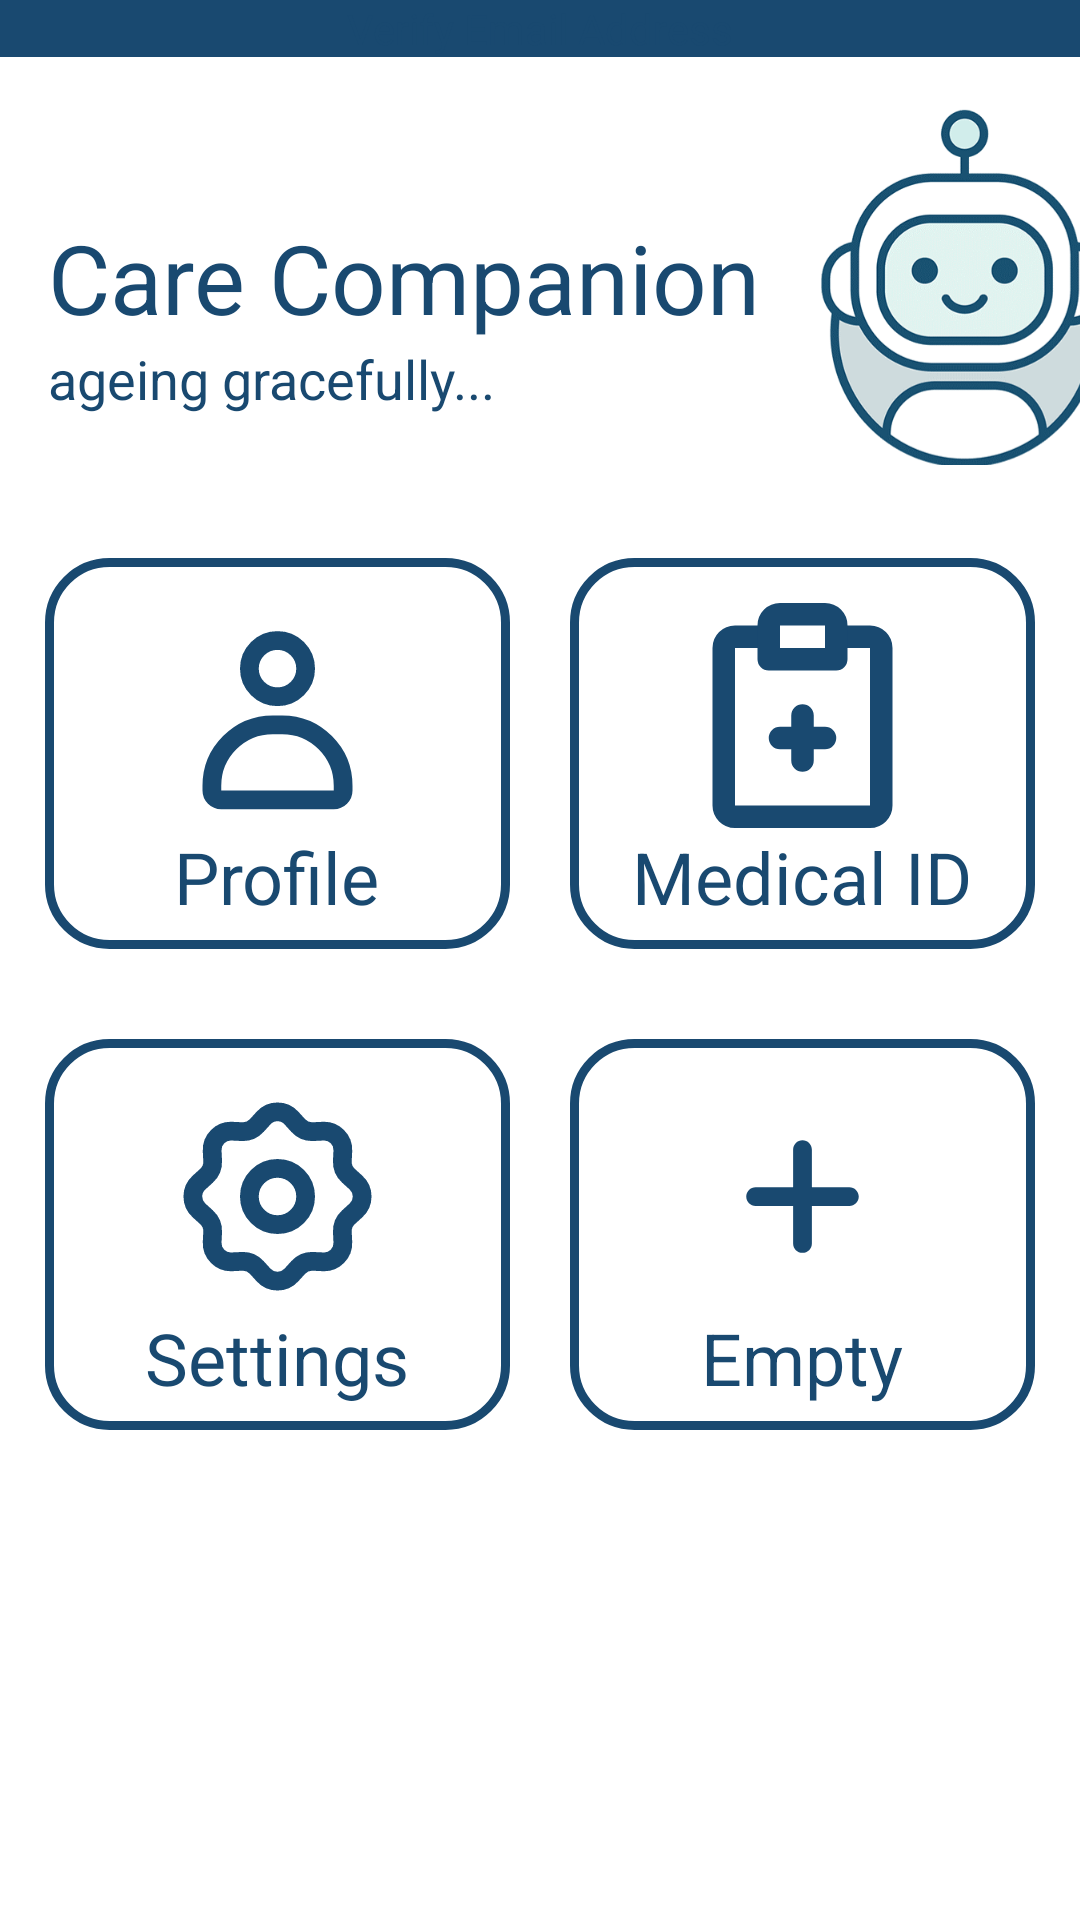

Named icons in this screenshot (1080w x 1920h) and their centers, (x,y):
medical receipt: (802,715)
plus: (802,1196)
